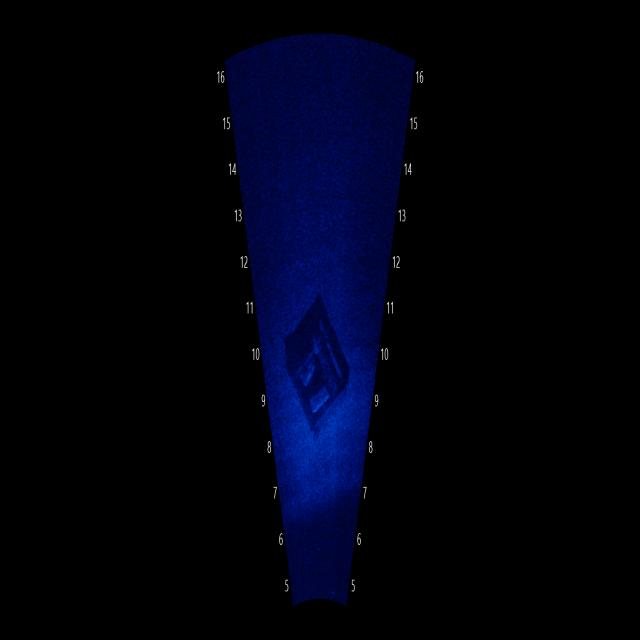square: (280, 287, 355, 444)
